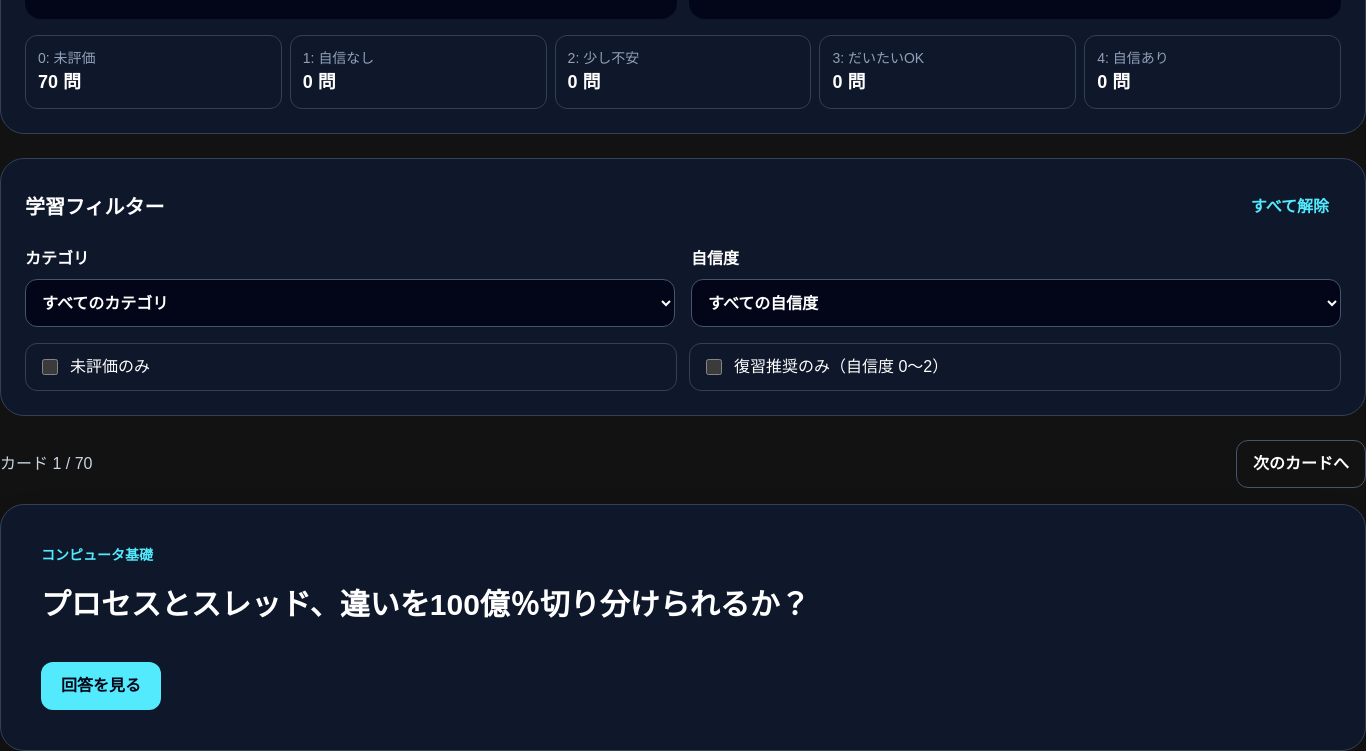
Test: FlashCardStudy › shows a 70-card confidence breakdown and updates it immediately
(page scrolled)
Click the button "回答を見る" at (101, 686), box [41,662,161,710]
(page scrolled)
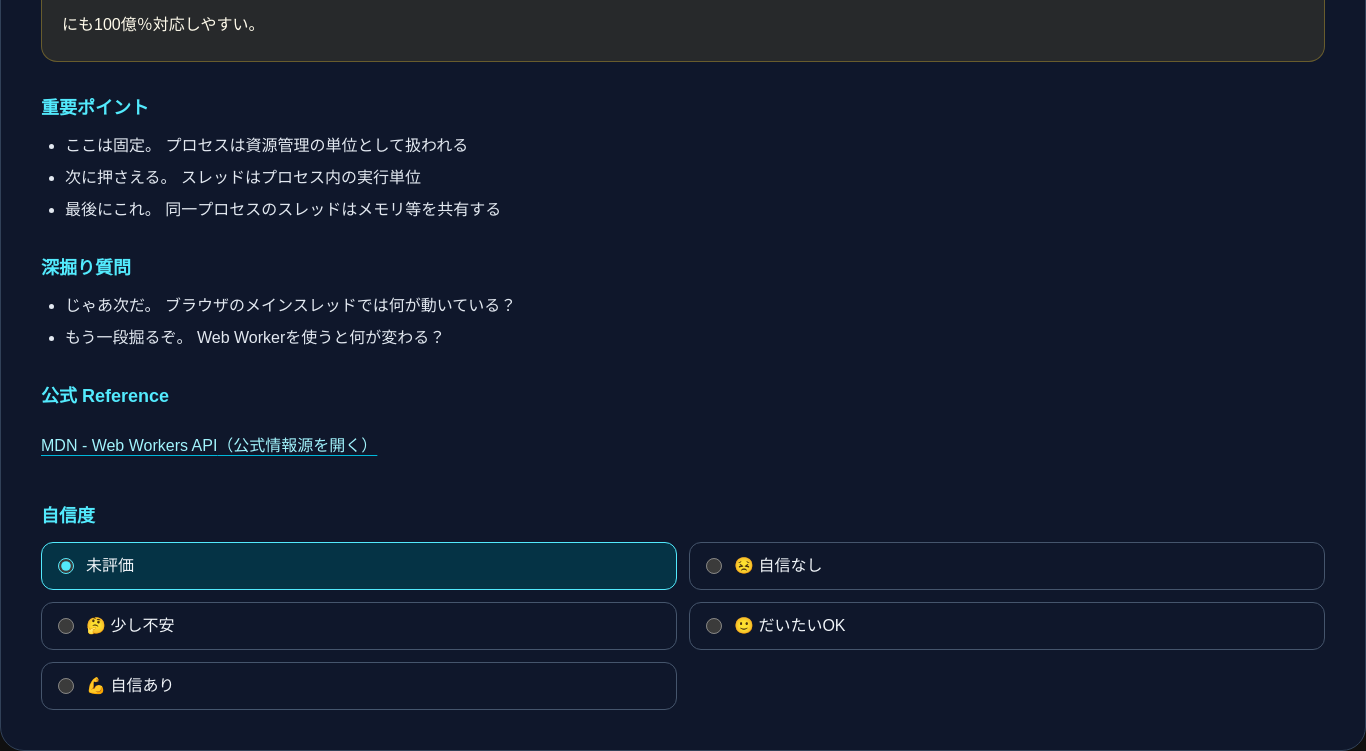
Click the radio button labelled "🙂 だいたいOK" at (714, 626), box [706,618,722,634]
(page scrolled)
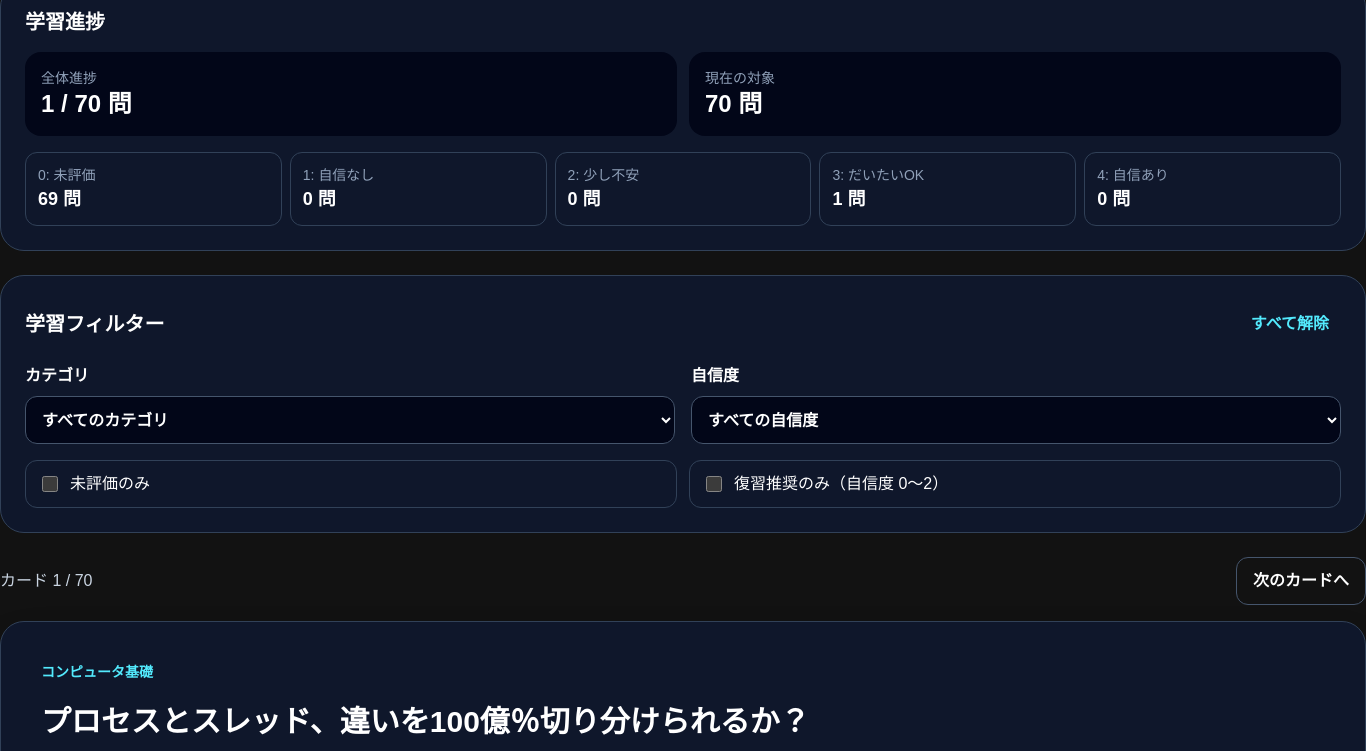
expect the text "1 / 70 問" is shown: met, box [41,90,132,117]
expect the text "1 問" is shown: met, box [832,189,865,209]
